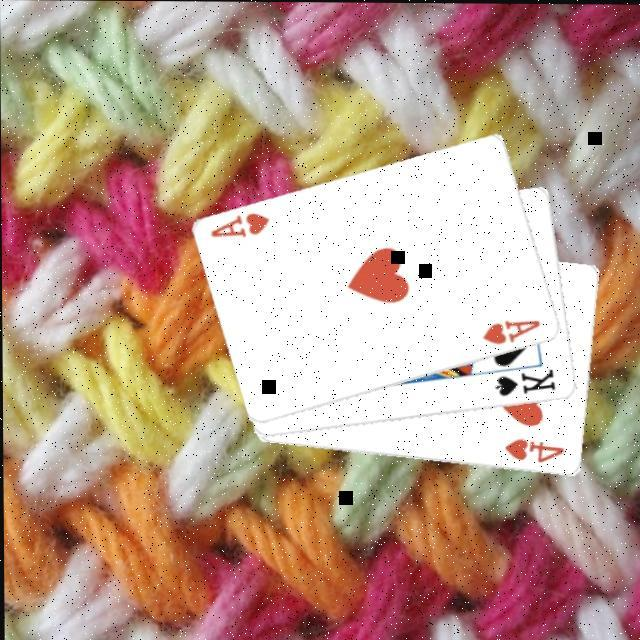4H: (504, 433, 569, 464)
AH: (208, 208, 274, 240), (481, 314, 545, 346)
KS: (493, 364, 561, 398)
